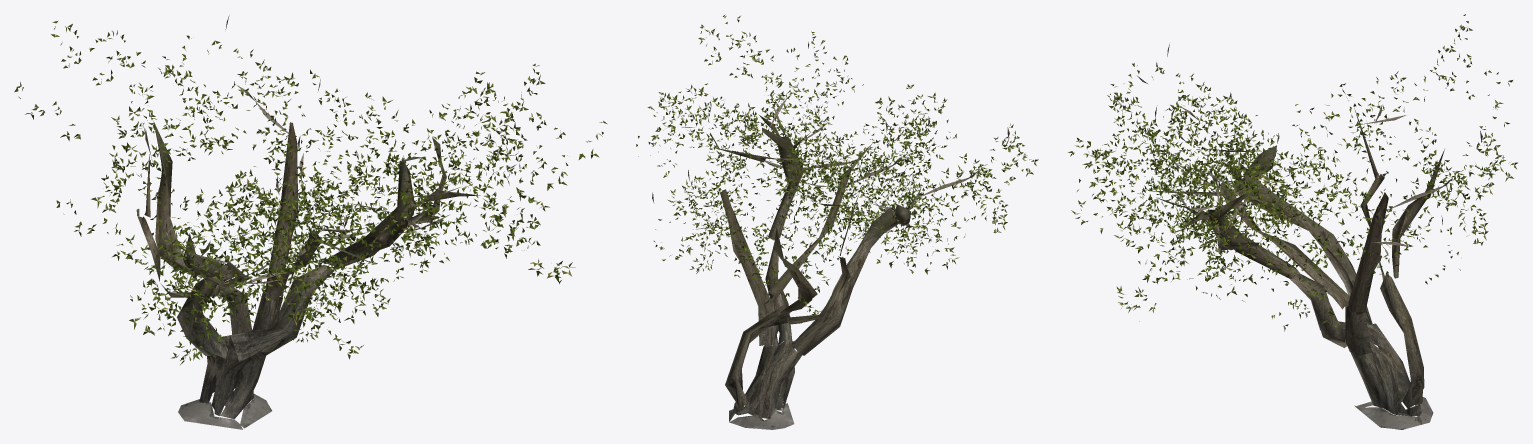
The model's file is island_tree.glb.
3 views of the same model, side by side, from view 1: azimuth 30°, elevation 25°; view 2: azimuth 150°, elevation 25°; view 3: azimuth 270°, elevation 25° (orthographic). The views are drawn at different scales.
Parts seen in each view (by area): view 1: island_tree_02_LOD0; view 2: island_tree_02_LOD0; view 3: island_tree_02_LOD0.
Part boxes in pixels (x1=…): island_tree_02_LOD0: x1=14, y1=15, x2=606, y2=429; island_tree_02_LOD0: x1=636, y1=14, x2=1038, y2=429; island_tree_02_LOD0: x1=1068, y1=14, x2=1517, y2=429.
Bounding box in the file's own units: 3.82 × 3.39 × 4.06.
3 materials, 3 textured.
